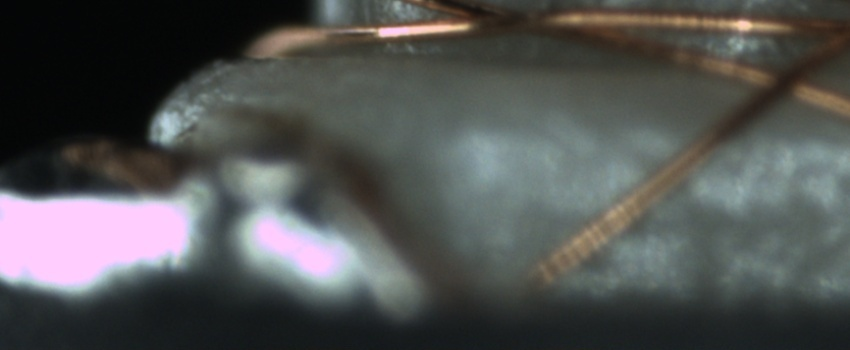CL: (745, 54, 816, 112)
DL: (496, 111, 850, 175)
